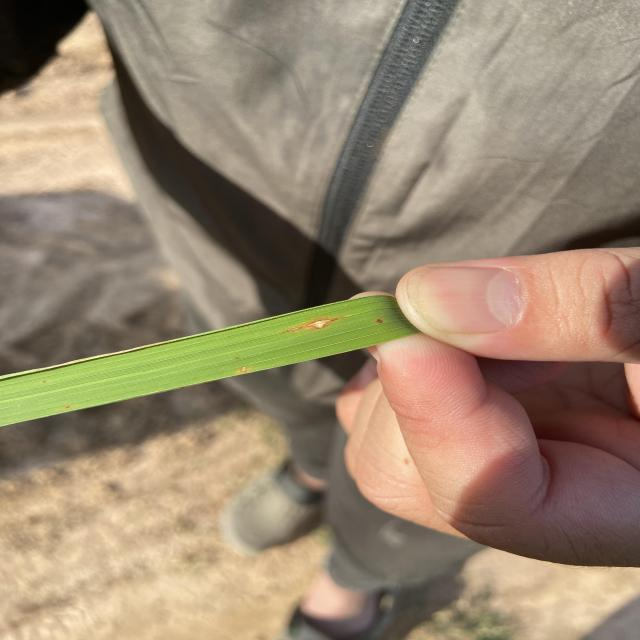Dao on: (288, 317, 340, 330), (241, 367, 247, 372), (377, 318, 382, 323)
